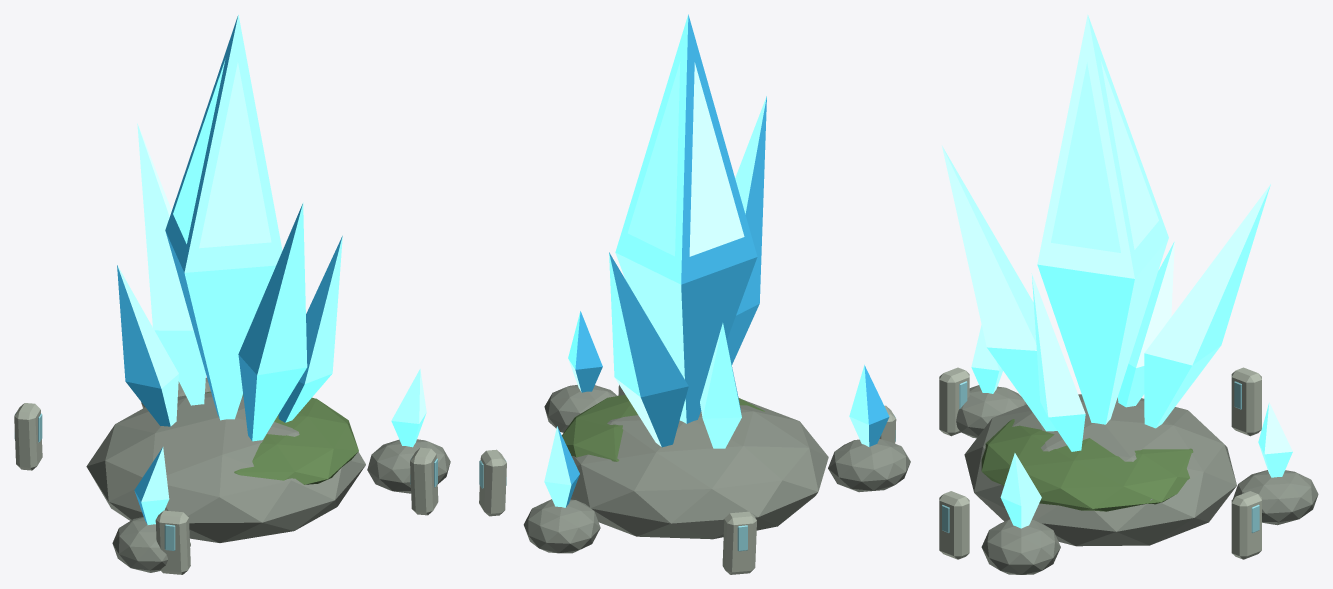
Rendered from glimmer_spire.glb.
The picture shows the model from 3 angles, left to right: view 1: azimuth 30°, elevation 25°; view 2: azimuth 150°, elevation 25°; view 3: azimuth 270°, elevation 25°; orthographic projection. The views are drawn at different scales.
Parts seen in each view (by area): view 1: Pigment_7ee3ee, Pigment_8c958a, Pigment_91f9ef, Pigment_658953, Pigment_afb9aa, Pigment_99e1eb; view 2: Pigment_7ee3ee, Pigment_8c958a, Pigment_91f9ef, Pigment_afb9aa, Pigment_658953; view 3: Pigment_7ee3ee, Pigment_8c958a, Pigment_658953, Pigment_91f9ef, Pigment_afb9aa, Pigment_99e1eb.
Boxes of the visible parts, left/top/right/bottom form: Pigment_7ee3ee: left=117, top=14, right=426, bottom=524; Pigment_8c958a: left=86, top=377, right=450, bottom=572; Pigment_91f9ef: left=173, top=60, right=271, bottom=248; Pigment_658953: left=207, top=392, right=358, bottom=484; Pigment_afb9aa: left=14, top=403, right=438, bottom=574; Pigment_99e1eb: left=14, top=412, right=437, bottom=550; Pigment_7ee3ee: left=544, top=14, right=889, bottom=507; Pigment_8c958a: left=523, top=385, right=910, bottom=553; Pigment_91f9ef: left=628, top=62, right=744, bottom=256; Pigment_afb9aa: left=479, top=385, right=896, bottom=574; Pigment_658953: left=562, top=394, right=764, bottom=461; Pigment_7ee3ee: left=942, top=14, right=1292, bottom=528; Pigment_8c958a: left=956, top=385, right=1318, bottom=574; Pigment_658953: left=981, top=419, right=1193, bottom=511; Pigment_91f9ef: left=1051, top=60, right=1158, bottom=252; Pigment_afb9aa: left=939, top=367, right=1261, bottom=559; Pigment_99e1eb: left=942, top=381, right=1259, bottom=532.
Size of the model in its own units: 5.04 by 7.07 by 4.77.
